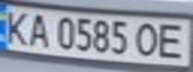0: (51, 13, 75, 51)
5: (109, 18, 133, 56), (72, 16, 93, 53)
8: (90, 17, 112, 54)
A: (24, 11, 54, 48)
E: (154, 20, 190, 60)
K: (0, 8, 33, 46)
O: (133, 20, 163, 57)
